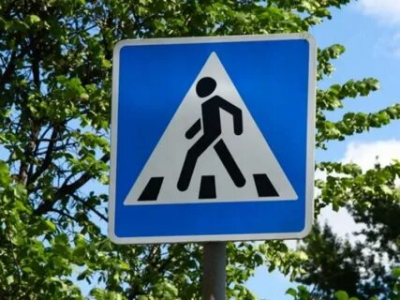crosswalk: (113, 37, 308, 238)
